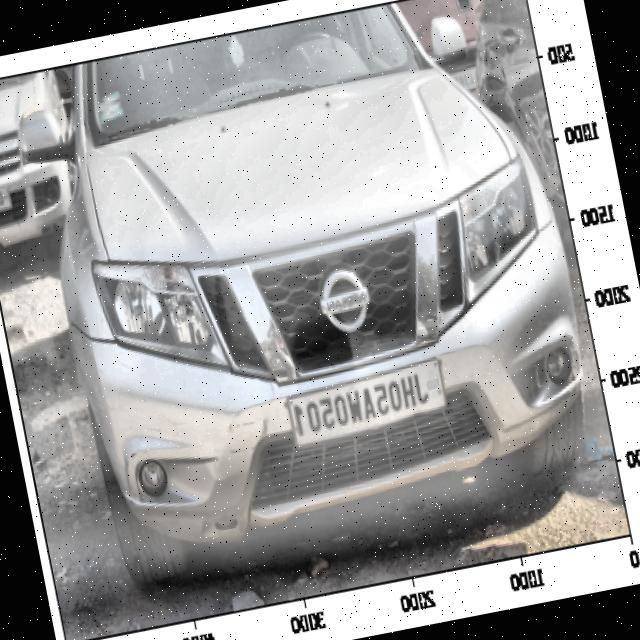license_plate: (283, 362, 440, 450)
